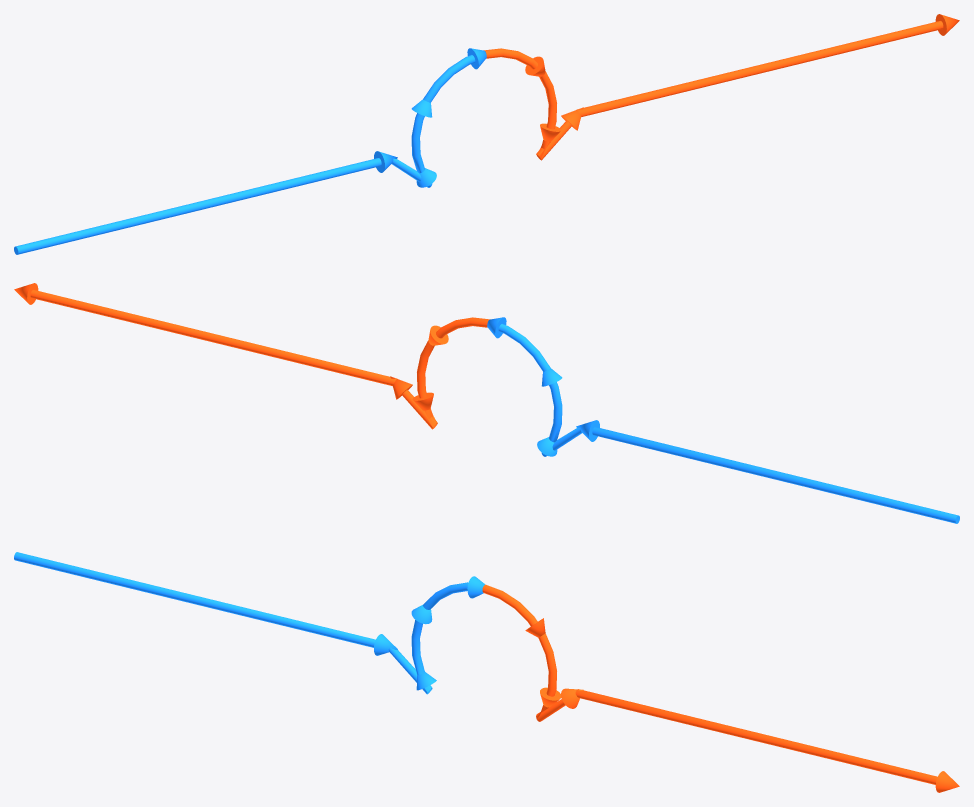
File: sliding_vane_pump_flow.glb
3 renders of one model, top to bottom at view 1: azimuth 30°, elevation 25°; view 2: azimuth 150°, elevation 25°; view 3: azimuth 330°, elevation 25°, orthographic.
Parts seen in each view (by area): view 1: flow_in, flow_out; view 2: flow_in, flow_out; view 3: flow_out, flow_in.
Part boxes in pixels (box(x1,y1,x2,y2)): flow_in: box(14, 48, 486, 254); flow_out: box(484, 14, 959, 160); flow_in: box(487, 317, 959, 523); flow_out: box(14, 283, 489, 429); flow_out: box(482, 584, 959, 792); flow_in: box(14, 552, 484, 694).
Size of the model in its own units: 1.01 by 0.1305 by 0.0208.
